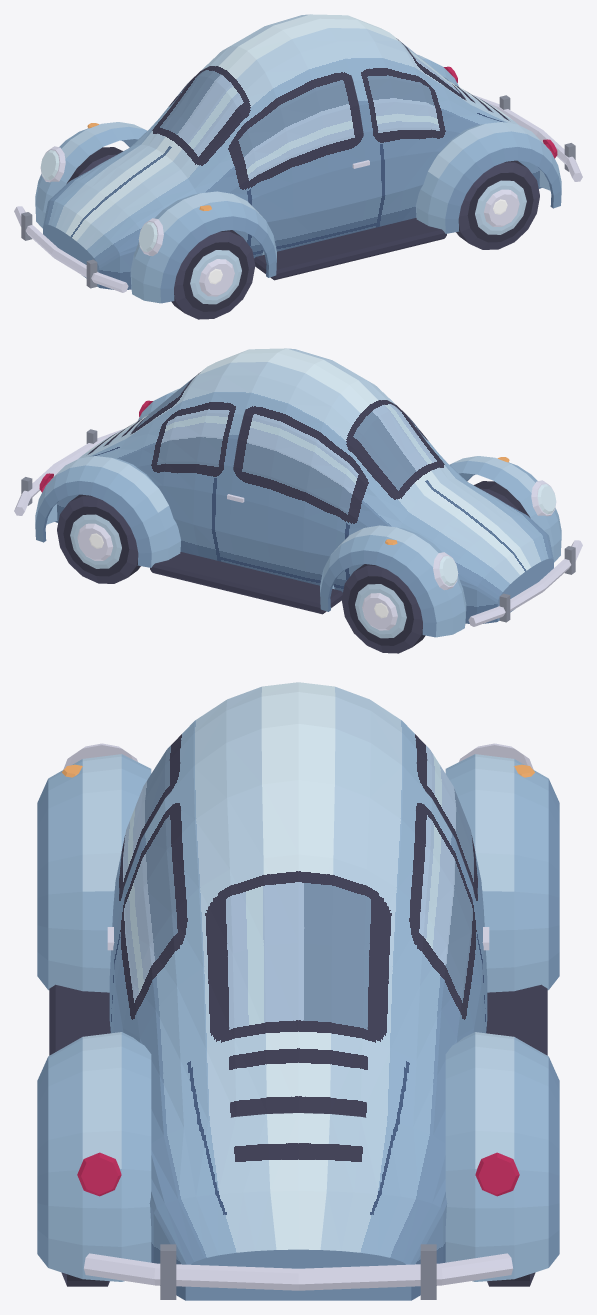
3 renders of one model, top to bottom at view 1: azimuth 30°, elevation 25°; view 2: azimuth 150°, elevation 25°; view 3: azimuth 270°, elevation 25°, orthographic. The views are drawn at different scales.
Parts seen in each view (by area): view 1: Body_static, Wheel_FL_tire_hub, Wheel_RL_tire_hub, Wheel_FR_tire_hub; view 2: Body_static, Wheel_FR_tire_hub, Wheel_RR_tire_hub, Wheel_FL_tire_hub; view 3: Body_static.
Boxes of the visible parts, x1,y1,x2,y2 form: Body_static: (14,14,582,303); Wheel_FL_tire_hub: (171,230,255,319); Wheel_RL_tire_hub: (456,160,539,249); Wheel_FR_tire_hub: (66,147,122,183); Body_static: (14,348,582,637); Wheel_FR_tire_hub: (341,564,425,653); Wheel_RR_tire_hub: (57,494,140,583); Wheel_FL_tire_hub: (474,481,530,517); Body_static: (37,682,559,1300).
Size of the model in its own units: 80.87 by 34.09 by 37.04.
1 material, 1 textured.
